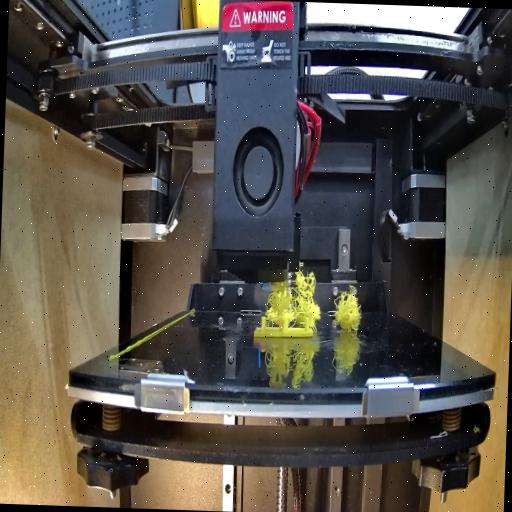spaghetti: (270, 264, 319, 326), (332, 291, 364, 330)
